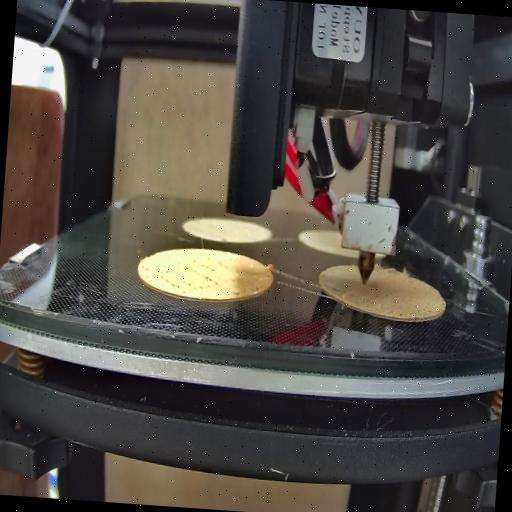under_extrusion: (143, 254, 220, 300), (394, 294, 444, 323), (230, 275, 268, 301), (321, 276, 345, 297)
